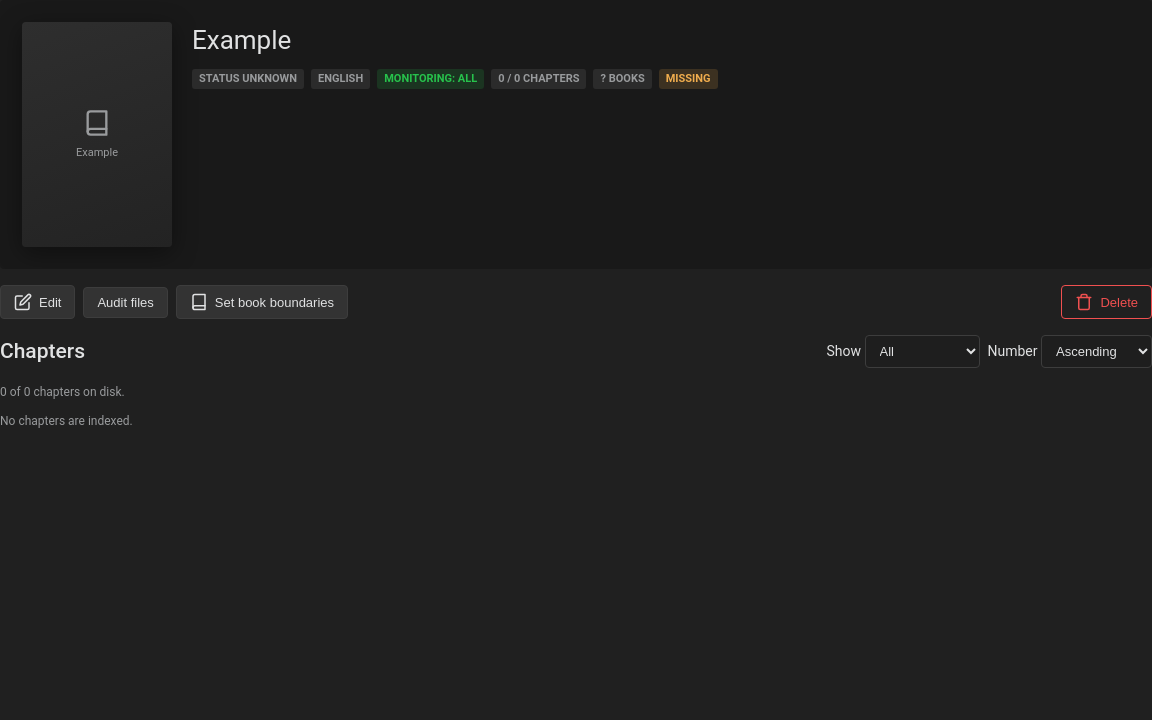
Test: opens the series audit only from its explicit action
The width and height of the screenshot is (1152, 720).
What coordinates should you click on to do the following:
click the button "Audit files"
I would click on:
 (126, 302)
Its box is [83, 286, 168, 318].
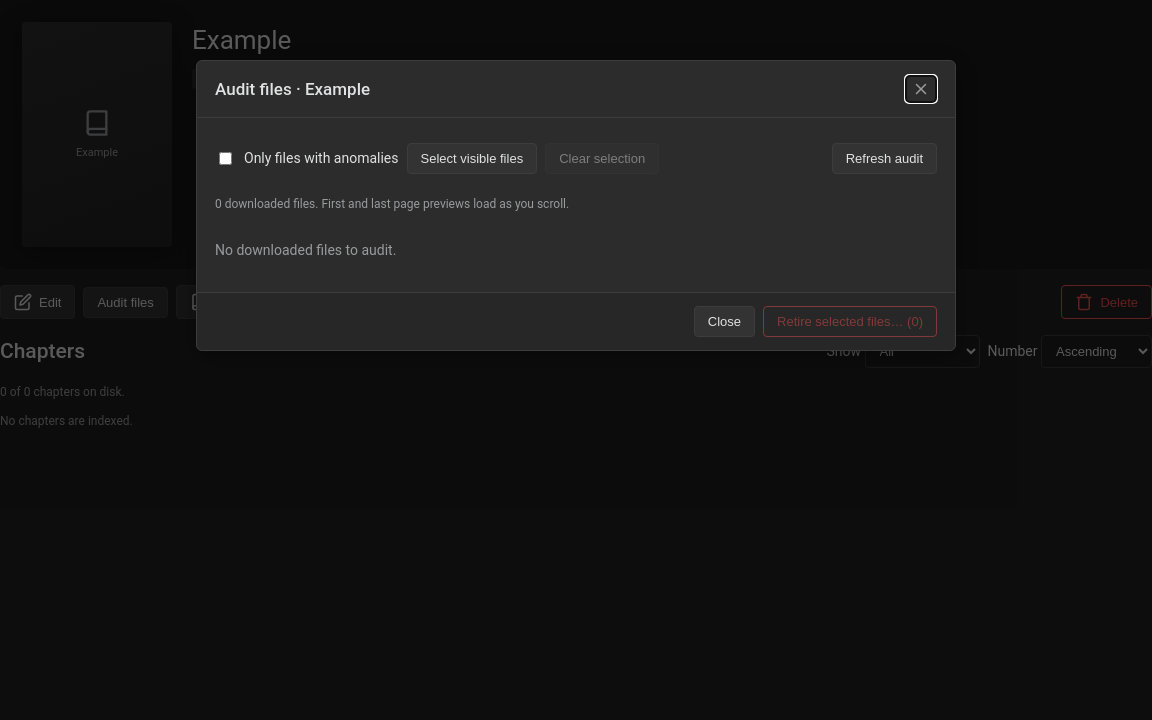
Result: the dialog "Audit files · Example" is shown at [196, 60, 956, 351]
Result: the text "No downloaded files to audit." is shown at [215, 242, 396, 258]
